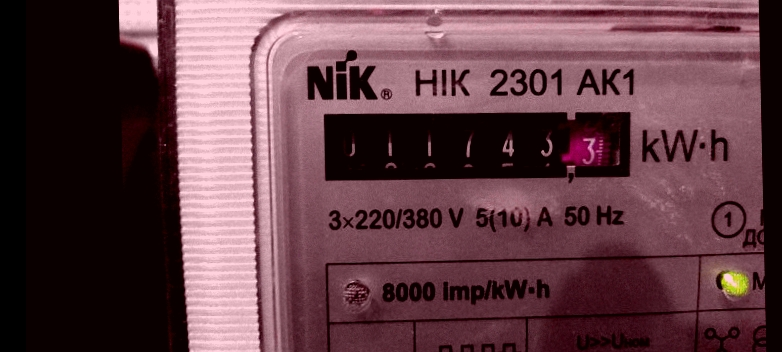0: (338, 124, 358, 160)
1: (421, 123, 437, 158), (384, 124, 395, 157)
3: (535, 124, 555, 159), (579, 135, 598, 168)
4: (498, 124, 516, 159)
7: (459, 124, 478, 159)
screen: (309, 95, 645, 196)
